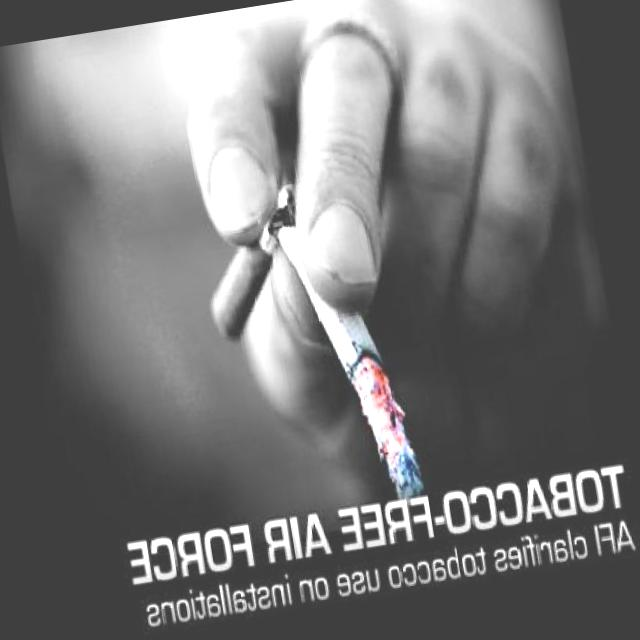cigarette: (277, 208, 428, 515)
